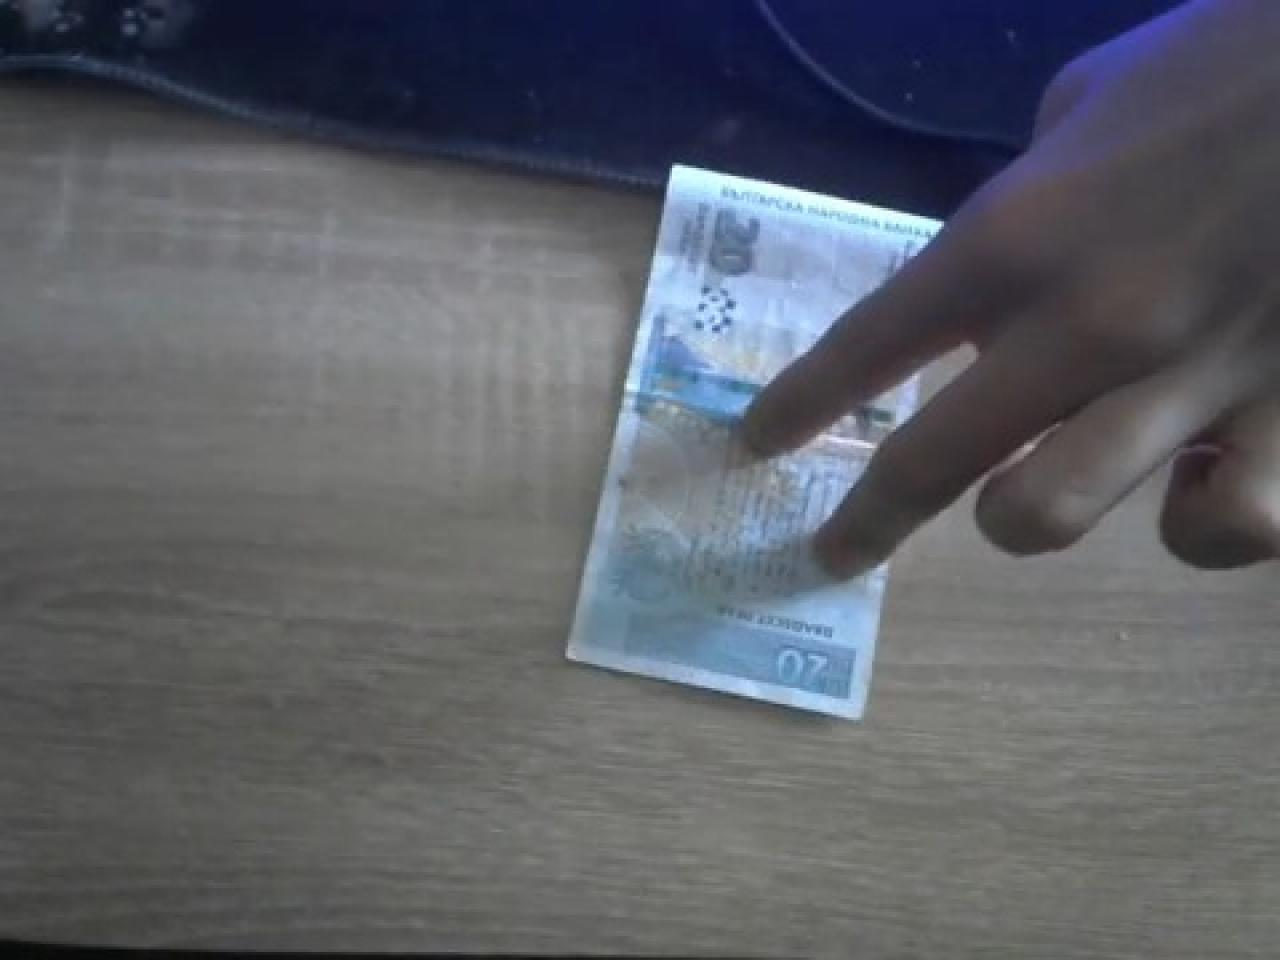20leva: (562, 165, 941, 723)
